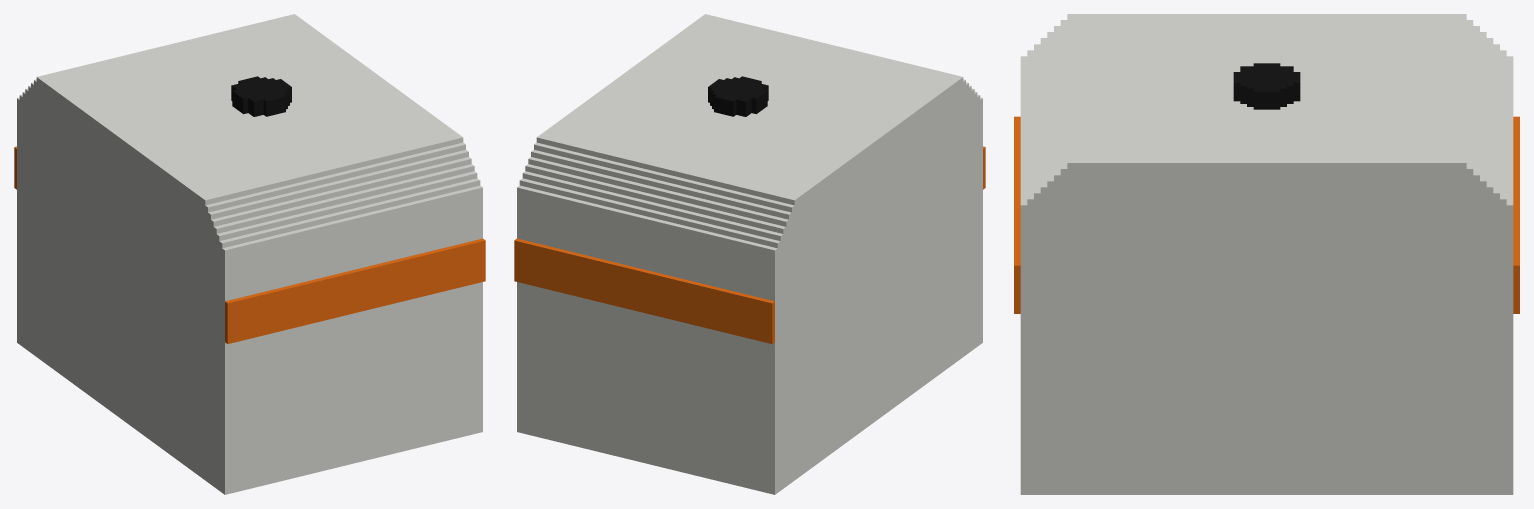
File: street_sweeper_water_tank.glb
The picture shows the model from 3 angles, left to right: view 1: azimuth 30°, elevation 25°; view 2: azimuth 150°, elevation 25°; view 3: azimuth 270°, elevation 25°; orthographic projection. The views are drawn at different scales.
Parts seen in each view (by area): view 1: body:compound; view 2: body:compound; view 3: body:compound.
Part boxes in pixels (bbox=[...]): body:compound: bbox=[14, 14, 485, 494]; body:compound: bbox=[514, 14, 985, 494]; body:compound: bbox=[1014, 14, 1519, 494].
Size of the model in its own units: 1.66 by 1.81 by 2.38.
